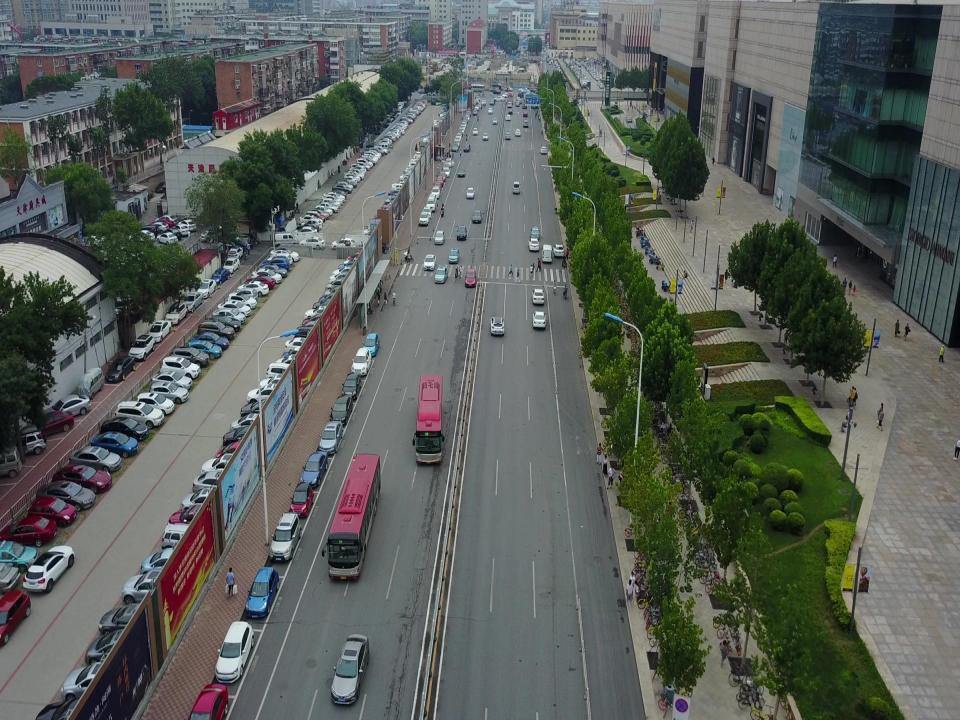bus: (321, 449, 380, 582), (413, 375, 445, 466), (469, 84, 485, 92)
car: (326, 631, 374, 705), (212, 620, 254, 681), (25, 540, 76, 589), (62, 664, 122, 698), (0, 587, 32, 647), (98, 601, 156, 634), (50, 463, 113, 493), (35, 481, 96, 511), (186, 678, 229, 720), (86, 633, 144, 664), (67, 443, 121, 476), (120, 571, 180, 600), (244, 566, 278, 616), (1, 515, 57, 542), (114, 401, 164, 429), (91, 429, 138, 458), (29, 496, 77, 524), (6, 428, 46, 458), (143, 551, 193, 575), (28, 411, 78, 434), (0, 537, 36, 568), (101, 417, 149, 440), (135, 391, 175, 418), (147, 381, 189, 406), (49, 396, 93, 418), (202, 451, 248, 472), (299, 451, 327, 485), (160, 356, 200, 379), (37, 700, 83, 720), (185, 336, 223, 360), (287, 482, 313, 517), (183, 491, 221, 514), (317, 417, 341, 452), (172, 345, 208, 368), (152, 373, 193, 393), (170, 508, 210, 528), (198, 316, 234, 338), (195, 473, 235, 492), (105, 355, 134, 381), (223, 428, 261, 447), (215, 442, 253, 461), (129, 334, 156, 360), (194, 332, 230, 351), (212, 307, 246, 326), (166, 299, 188, 327), (181, 288, 204, 313), (210, 315, 241, 333), (330, 396, 352, 421), (218, 301, 252, 317), (226, 290, 256, 308), (240, 402, 276, 417), (248, 387, 283, 402), (250, 269, 282, 285), (231, 415, 263, 431), (236, 281, 268, 296), (244, 272, 276, 287), (269, 246, 299, 262), (342, 371, 360, 397), (150, 322, 172, 342), (81, 232, 105, 250), (258, 263, 288, 277), (195, 279, 217, 298), (301, 313, 330, 327), (267, 363, 292, 379), (263, 257, 289, 272), (333, 264, 359, 279), (363, 332, 379, 356), (292, 322, 319, 336), (328, 271, 359, 283), (300, 234, 326, 248), (330, 236, 358, 249), (279, 354, 307, 367), (260, 377, 286, 391), (303, 307, 334, 318), (232, 284, 256, 298), (132, 228, 154, 243), (139, 220, 159, 236), (200, 228, 220, 244), (279, 347, 307, 358), (155, 211, 177, 225), (489, 315, 504, 335), (336, 259, 365, 269), (222, 257, 240, 273), (302, 209, 326, 221), (164, 224, 182, 240), (286, 336, 308, 349), (309, 300, 337, 310), (309, 205, 329, 219), (324, 279, 355, 288), (149, 216, 172, 228), (173, 220, 189, 237), (178, 217, 196, 232), (154, 176, 172, 191), (316, 201, 338, 213), (156, 232, 178, 244), (312, 202, 332, 215), (212, 267, 228, 283), (532, 310, 547, 327), (530, 287, 545, 303), (345, 251, 365, 263), (331, 181, 351, 193), (364, 224, 388, 234), (148, 220, 168, 232), (316, 294, 342, 303), (228, 245, 242, 261), (434, 265, 447, 282), (321, 194, 343, 204), (325, 192, 345, 203), (294, 227, 318, 236), (300, 215, 324, 224), (346, 167, 364, 179), (464, 269, 476, 287), (320, 197, 341, 207), (323, 288, 349, 296), (337, 176, 357, 186), (298, 221, 320, 230), (321, 194, 339, 205), (336, 178, 354, 189), (233, 233, 251, 244), (370, 144, 388, 154), (365, 147, 381, 158), (340, 172, 357, 182), (367, 145, 384, 155), (353, 161, 371, 170), (360, 155, 378, 164), (424, 254, 434, 270), (344, 171, 360, 181), (356, 158, 372, 168), (455, 225, 467, 238), (527, 237, 539, 250), (553, 243, 565, 256), (425, 197, 437, 210), (449, 248, 459, 263), (349, 165, 365, 174), (362, 151, 378, 160), (530, 225, 540, 239), (419, 211, 429, 225), (422, 206, 432, 220), (430, 186, 440, 200), (434, 231, 445, 243), (471, 209, 481, 222), (400, 114, 413, 123), (378, 136, 392, 144), (381, 134, 395, 142), (391, 126, 405, 134), (435, 174, 445, 185), (444, 158, 454, 169), (430, 86, 442, 95), (466, 186, 474, 199), (443, 164, 451, 177), (385, 131, 398, 139), (393, 122, 406, 130), (438, 169, 446, 181), (396, 120, 408, 128), (398, 117, 410, 125), (245, 241, 251, 256), (435, 181, 441, 195), (457, 166, 465, 176), (409, 107, 419, 115), (389, 129, 400, 136), (404, 114, 415, 121), (492, 96, 504, 102), (411, 105, 423, 111), (406, 112, 416, 119), (415, 102, 425, 109), (418, 86, 428, 93), (625, 114, 633, 122), (464, 143, 470, 153), (457, 127, 465, 134), (521, 120, 529, 127), (465, 108, 471, 117), (505, 131, 511, 140), (488, 86, 498, 91), (518, 86, 528, 91), (461, 118, 468, 125), (482, 133, 489, 140), (540, 146, 547, 153), (456, 131, 462, 139), (463, 114, 469, 122), (472, 127, 478, 135), (502, 91, 510, 97), (504, 86, 512, 92), (451, 143, 458, 149), (454, 134, 461, 140), (459, 123, 465, 130), (515, 128, 521, 135), (516, 96, 522, 103), (493, 90, 501, 95), (521, 89, 531, 93), (492, 118, 498, 124), (487, 108, 493, 114), (522, 110, 528, 116), (505, 114, 511, 120), (522, 102, 528, 108), (455, 138, 460, 145), (461, 119, 467, 124), (474, 104, 480, 109), (508, 108, 513, 114), (489, 99, 494, 105), (474, 108, 478, 115), (507, 102, 512, 107), (482, 100, 486, 105), (515, 101, 519, 105)
van: (270, 512, 301, 560), (74, 369, 106, 398), (162, 524, 200, 547), (352, 347, 372, 374), (274, 231, 298, 248), (541, 244, 553, 261), (512, 180, 520, 193)
